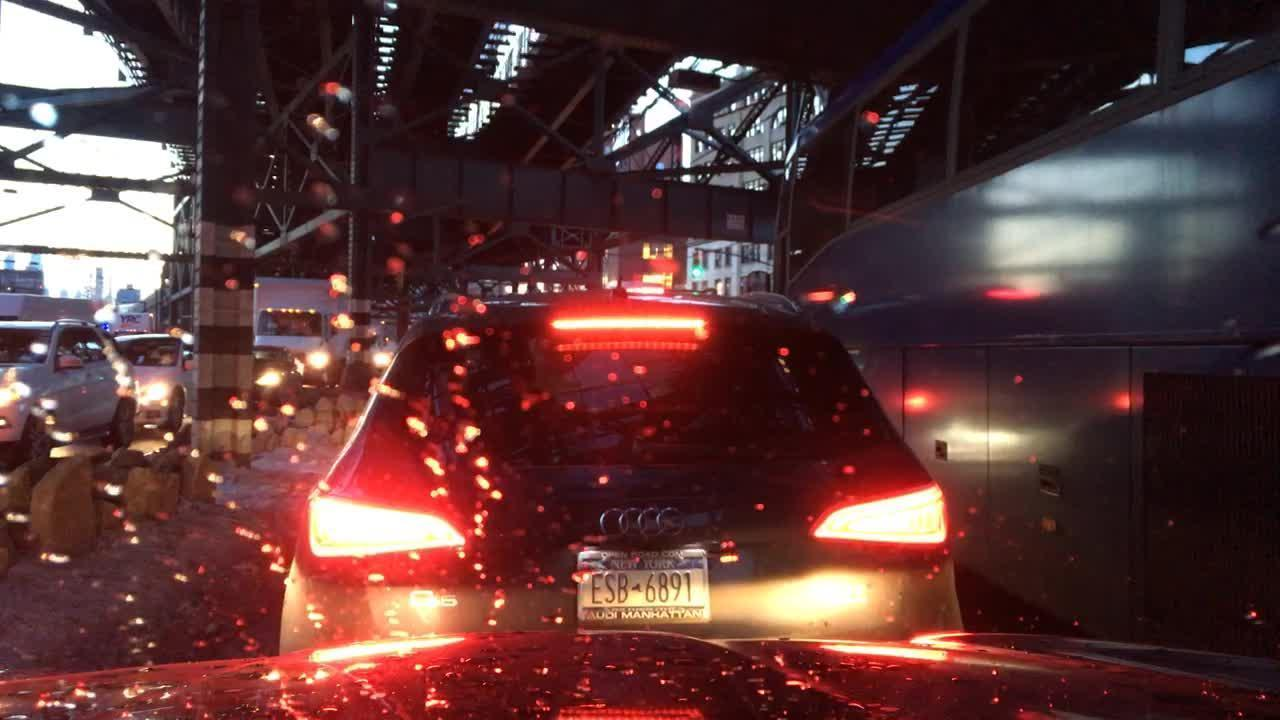Audi: (579, 492, 710, 552)
